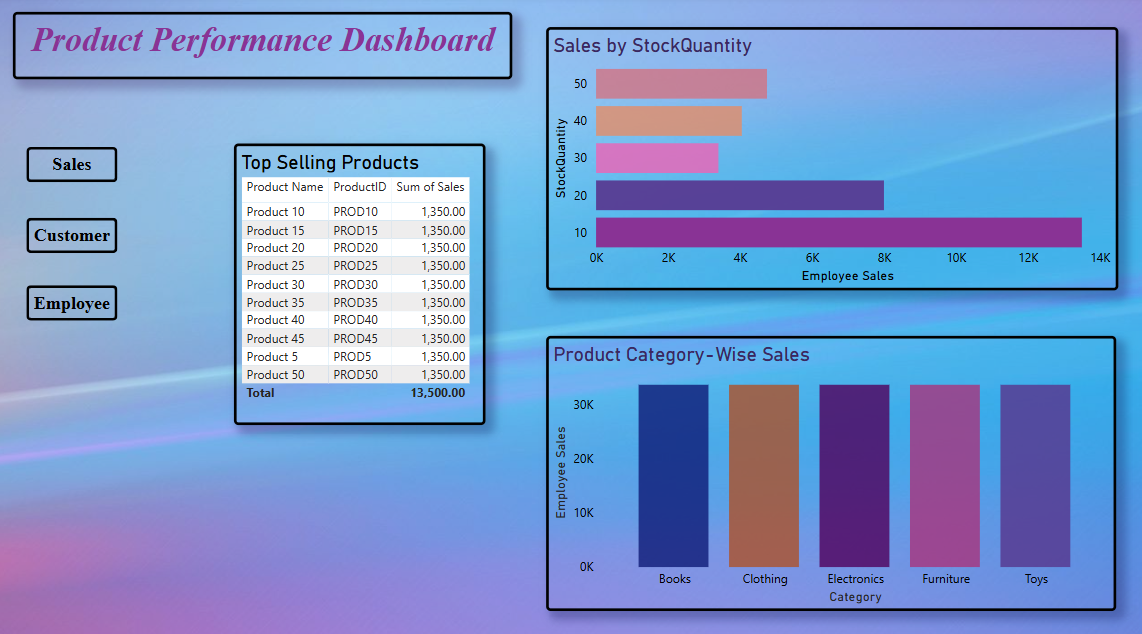

What the dashboard file says about the page in this screenshot:
{"tool":"powerbi","page":{"name":"Product","canvas":[1280,720],"ordinal":2},"visuals":[{"type":"textbox","box":[18.7,18.7,552.9,74.7],"z":0},{"type":"tableEx","title":"Top Selling Products","fields":{"Values":["Top 5 Products Table.Product Name","Top 5 Products Table.ProductID","Sum(Top 5 Products Table.Sales)"]},"box":[263.4,164.4,278.3,312],"z":1000},{"type":"clusteredBarChart","title":"Sales by StockQuantity","fields":{"Category":["Products.StockQuantity"],"Y":["Employees.Employee Sales"]},"box":[609,35.5,633.3,291.4],"z":2000},{"type":"clusteredColumnChart","title":"Product Category-Wise Sales","fields":{"Category":["Products.Category"],"Y":["Employees.Employee Sales"]},"box":[609,377.3,631.4,304.5],"z":3000},{"type":"actionButton","box":[33.6,321.3,100.9,39.2],"z":4000},{"type":"actionButton","box":[33.6,246.6,100.9,39.2],"z":5000},{"type":"actionButton","box":[33.6,168.1,100.9,39.2],"z":6000}]}

Visuals, with their boxes in screenshot pixels (x1, y1, x2, y2), scaled from the page's 1280x720 canvas onto the 1142x634 screenshot:
textbox: BBox(17, 16, 510, 82)
"Top Selling Products" tableEx: BBox(235, 145, 483, 419)
"Sales by StockQuantity" clusteredBarChart: BBox(543, 31, 1108, 288)
"Product Category-Wise Sales" clusteredColumnChart: BBox(543, 332, 1107, 600)
actionButton: BBox(30, 283, 120, 317)
actionButton: BBox(30, 217, 120, 252)
actionButton: BBox(30, 148, 120, 183)
